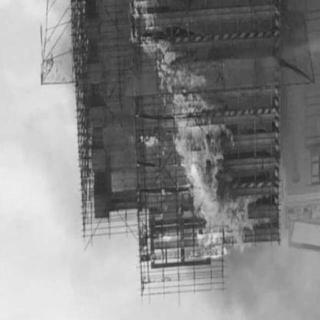Fire: (135, 2, 257, 264)
